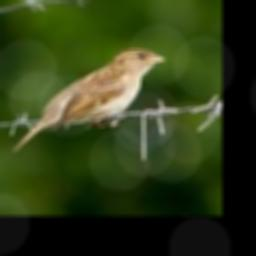Sparrow: (10, 47, 166, 151)
